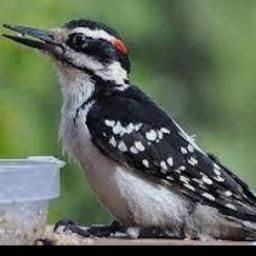Woodpecker: (1, 19, 256, 240)
